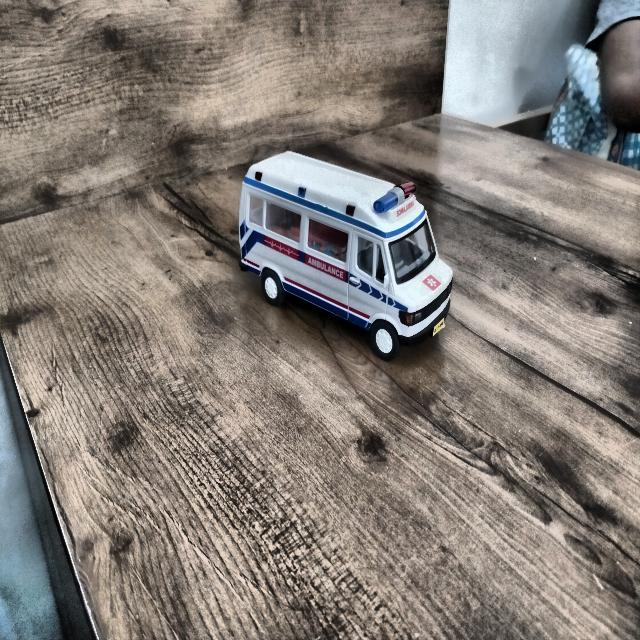Ambulance: (235, 146, 460, 361)
